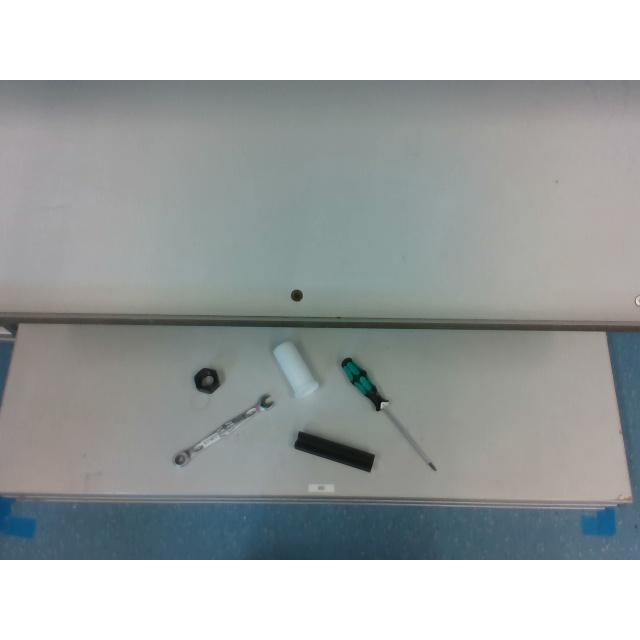F20_20_B: (294, 431, 374, 471)
M20: (194, 367, 220, 393)
Screwdriver: (339, 356, 437, 472)
Spacer: (274, 342, 318, 398)
Wrench: (173, 394, 274, 466)
